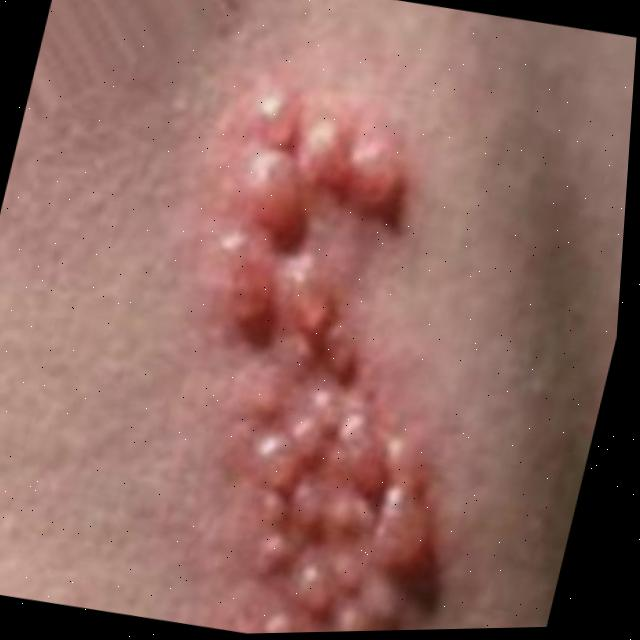Shingles: (129, 80, 551, 636)
